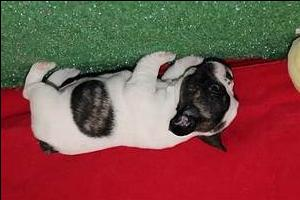dog: (21, 50, 239, 156)
